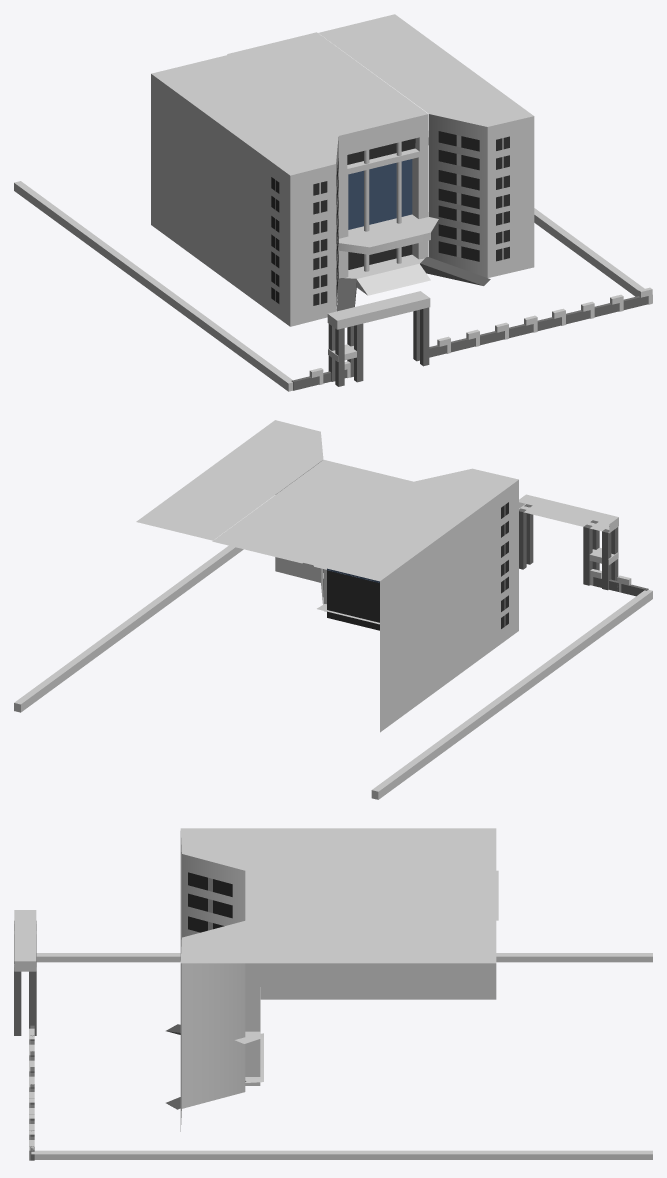
The model's file is NOBLE.fbx.
3 renders of one model, top to bottom at view 1: azimuth 30°, elevation 25°; view 2: azimuth 150°, elevation 25°; view 3: azimuth 270°, elevation 25°, orthographic. The views are drawn at different scales.
Visible parts, largest first — view 1: polySurface25; view 2: polySurface25; view 3: polySurface25.
Boxes of the visible parts, <box> form: polySurface25: <box>14,14,652,391</box>; polySurface25: <box>14,420,652,799</box>; polySurface25: <box>14,828,652,1160</box>.
Size of the model in its own units: 32.37 by 12.84 by 43.4.
